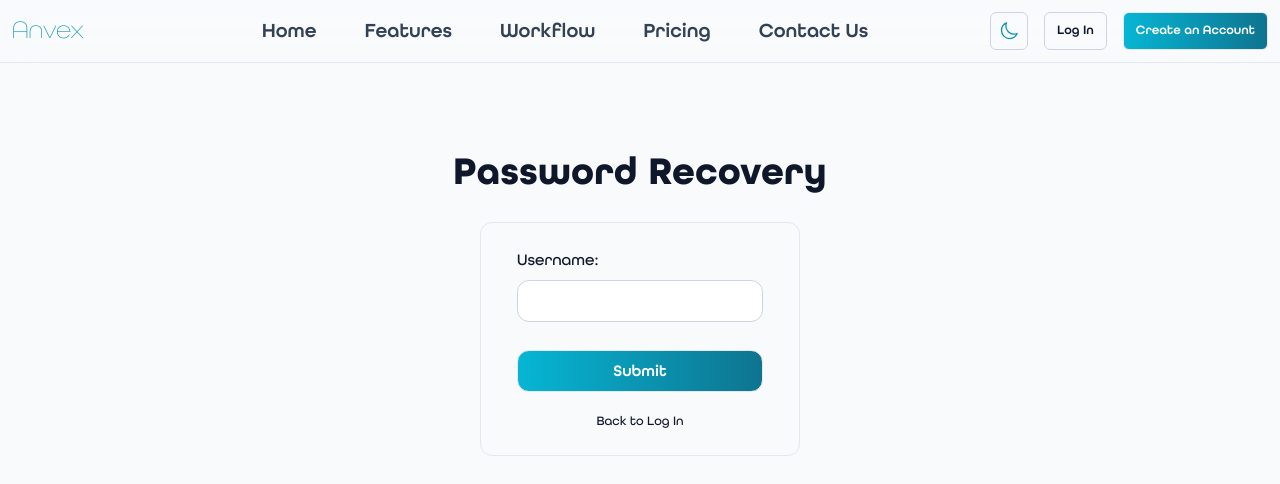
validation › sends the trimmed username
The width and height of the screenshot is (1280, 484).
Expected: the element with test id "route-recovery" is shown, [453,148,827,456]
Type "  ada  " into the field labelled "Username:". click: (640, 301)
box: [517,280,763,322]
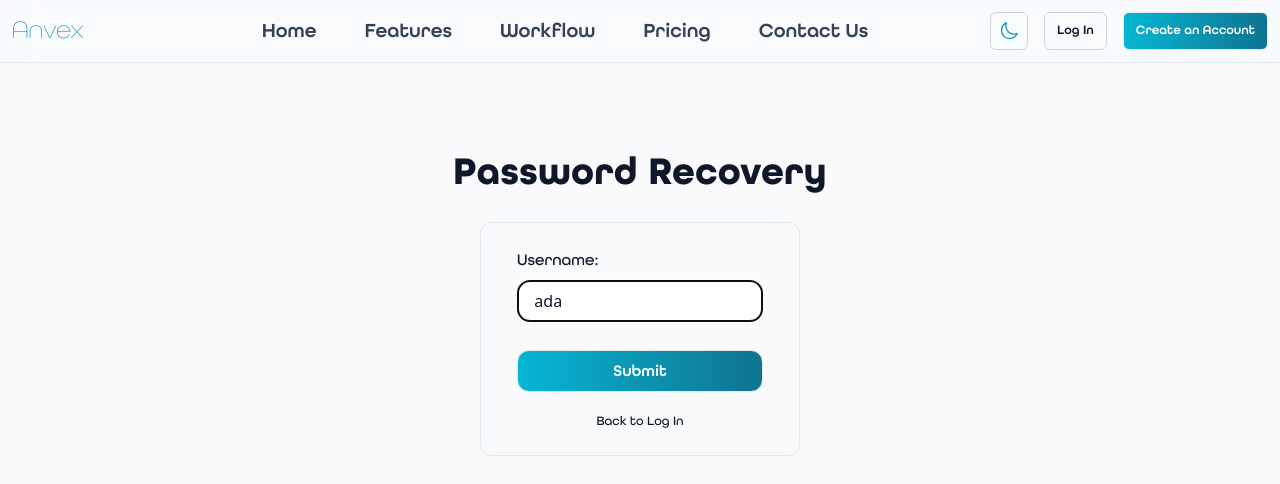
Click the button "Submit". click: click(640, 371)
box: [517,350,763,392]
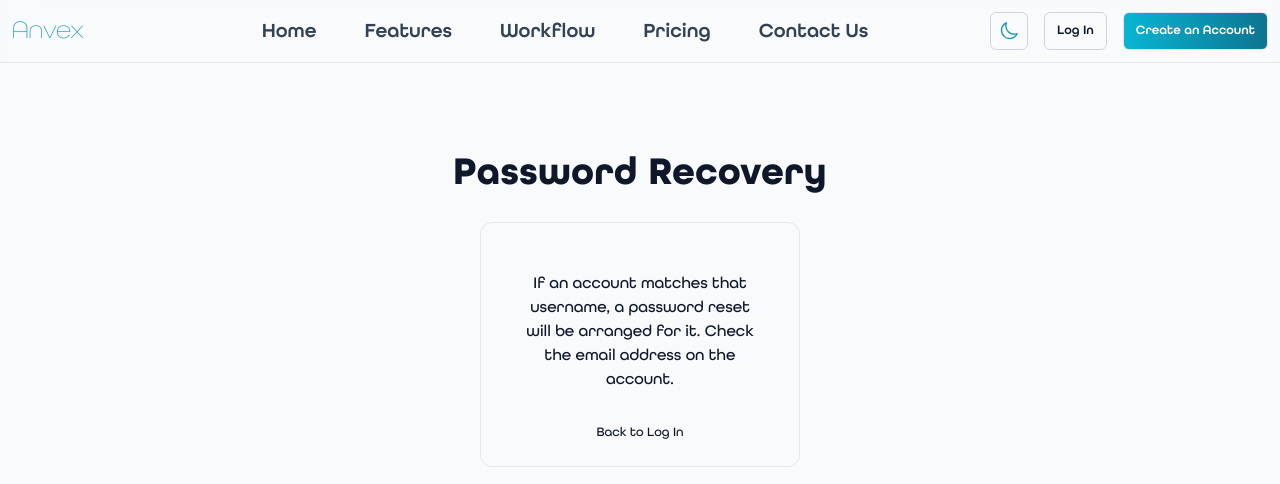
Now the text "password reset will be arranged" is shown, box [526,273,754,388]
